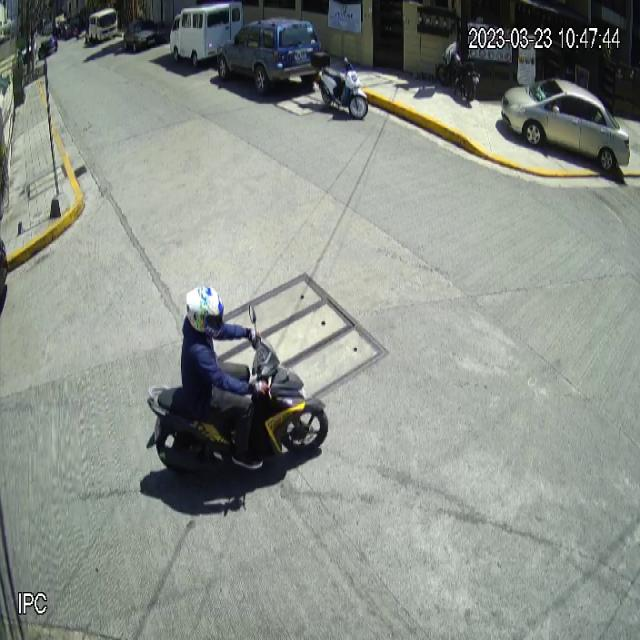Car: (500, 78, 630, 174), (218, 17, 324, 99)
Motorcycle: (142, 302, 328, 481), (312, 48, 369, 120)
Van: (170, 1, 245, 67)
